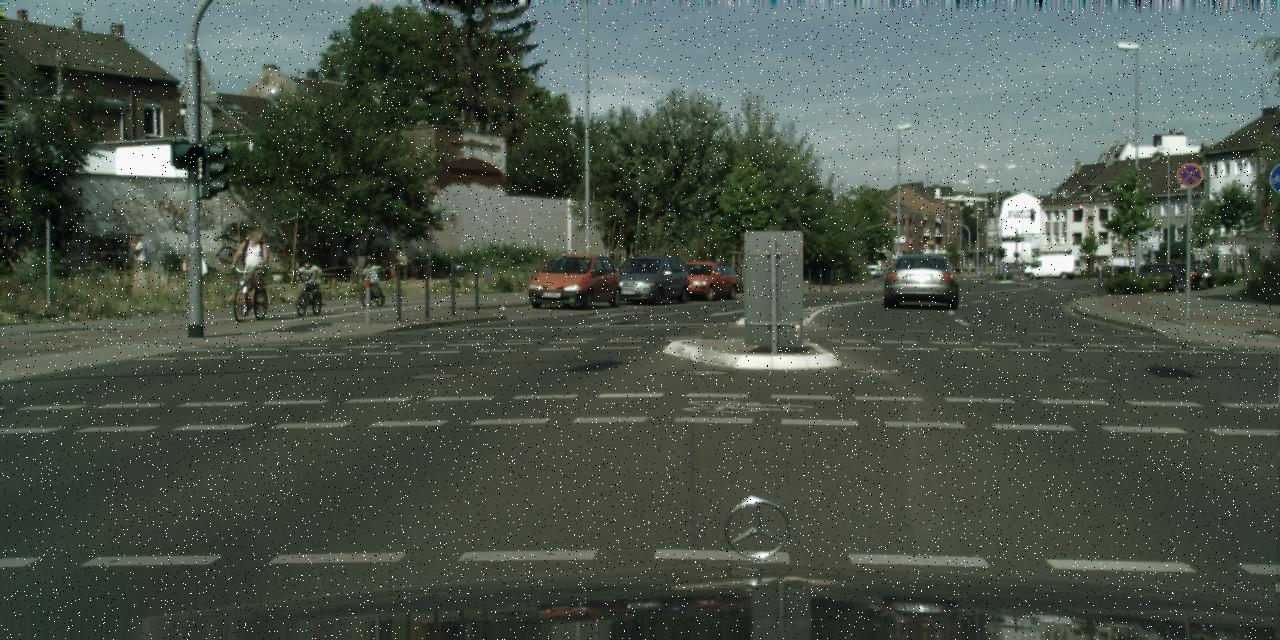ped: (238, 227, 270, 304), (344, 234, 408, 268), (298, 257, 318, 303), (362, 258, 378, 300)
